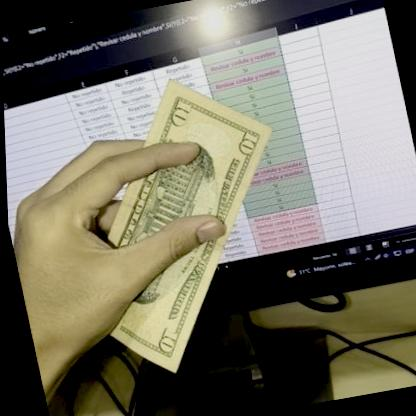ten-back: (51, 62, 319, 385)
